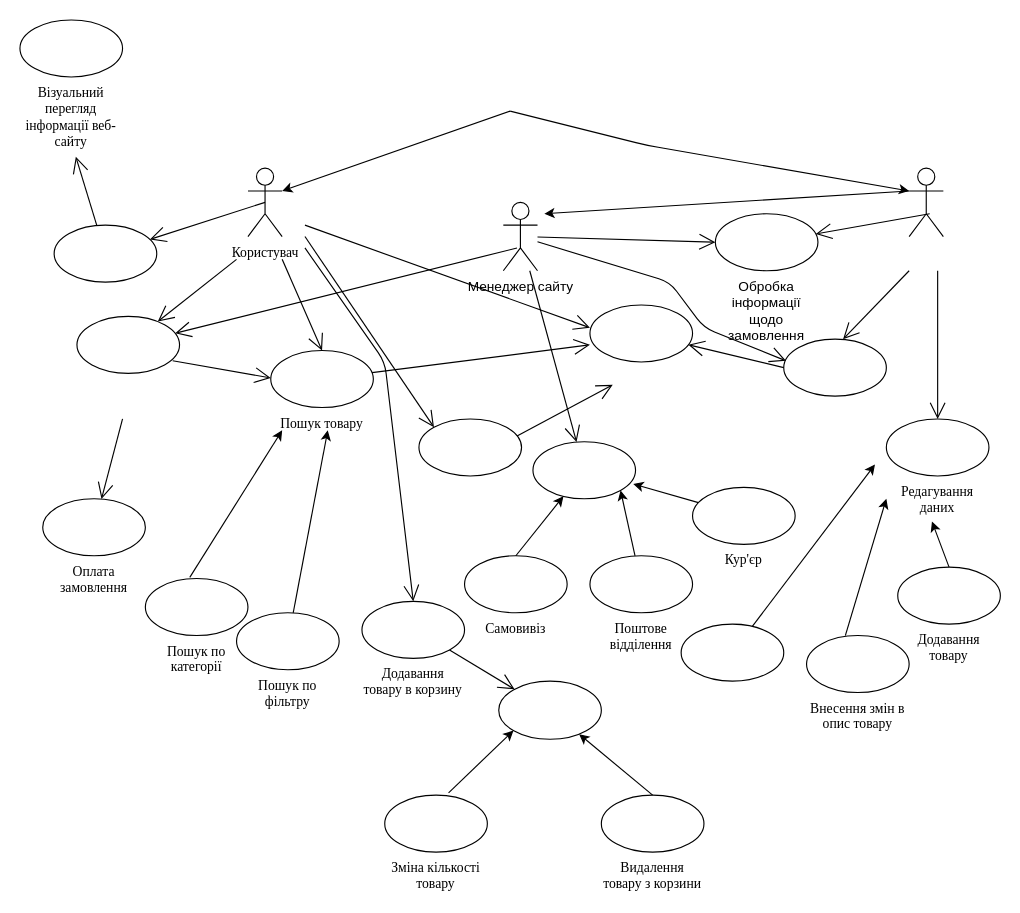
Some shapes in this 1020 by 913 pixel diagram are drawn without their labels. The shapes that lost their labels are listed below. From the top down, each one's centre as x and y in pixels, then its label:
At [925,202]: "Адміністратор сайту".
At [105,253]: "Вхід на сайт".
At [128,344]: "Оформлення замовлення".
At [641,333]: "Авторизація".
At [834,367]: "Інформація по БД".
At [470,447]: "Введення даних".
At [584,470]: "Доставка замовлення".
At [732,652]: "Видалення товару".
At [549,709]: "Внесення змін в корзині".
